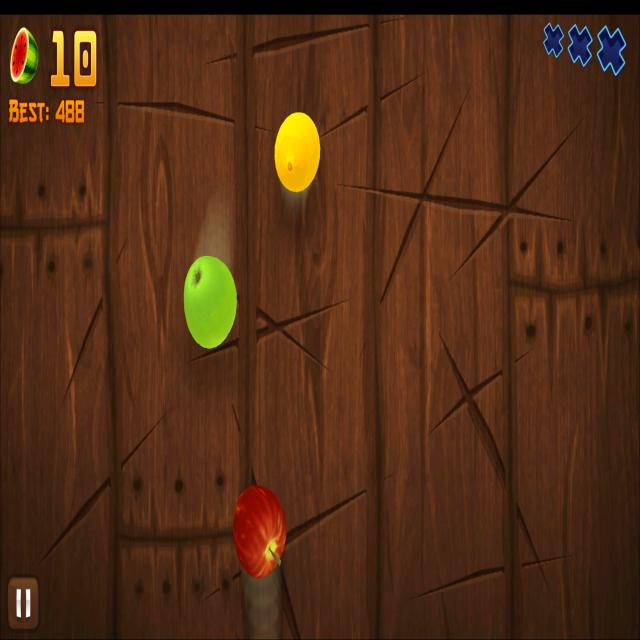fruit: (183, 254, 238, 350), (232, 484, 287, 580), (274, 110, 320, 194)
